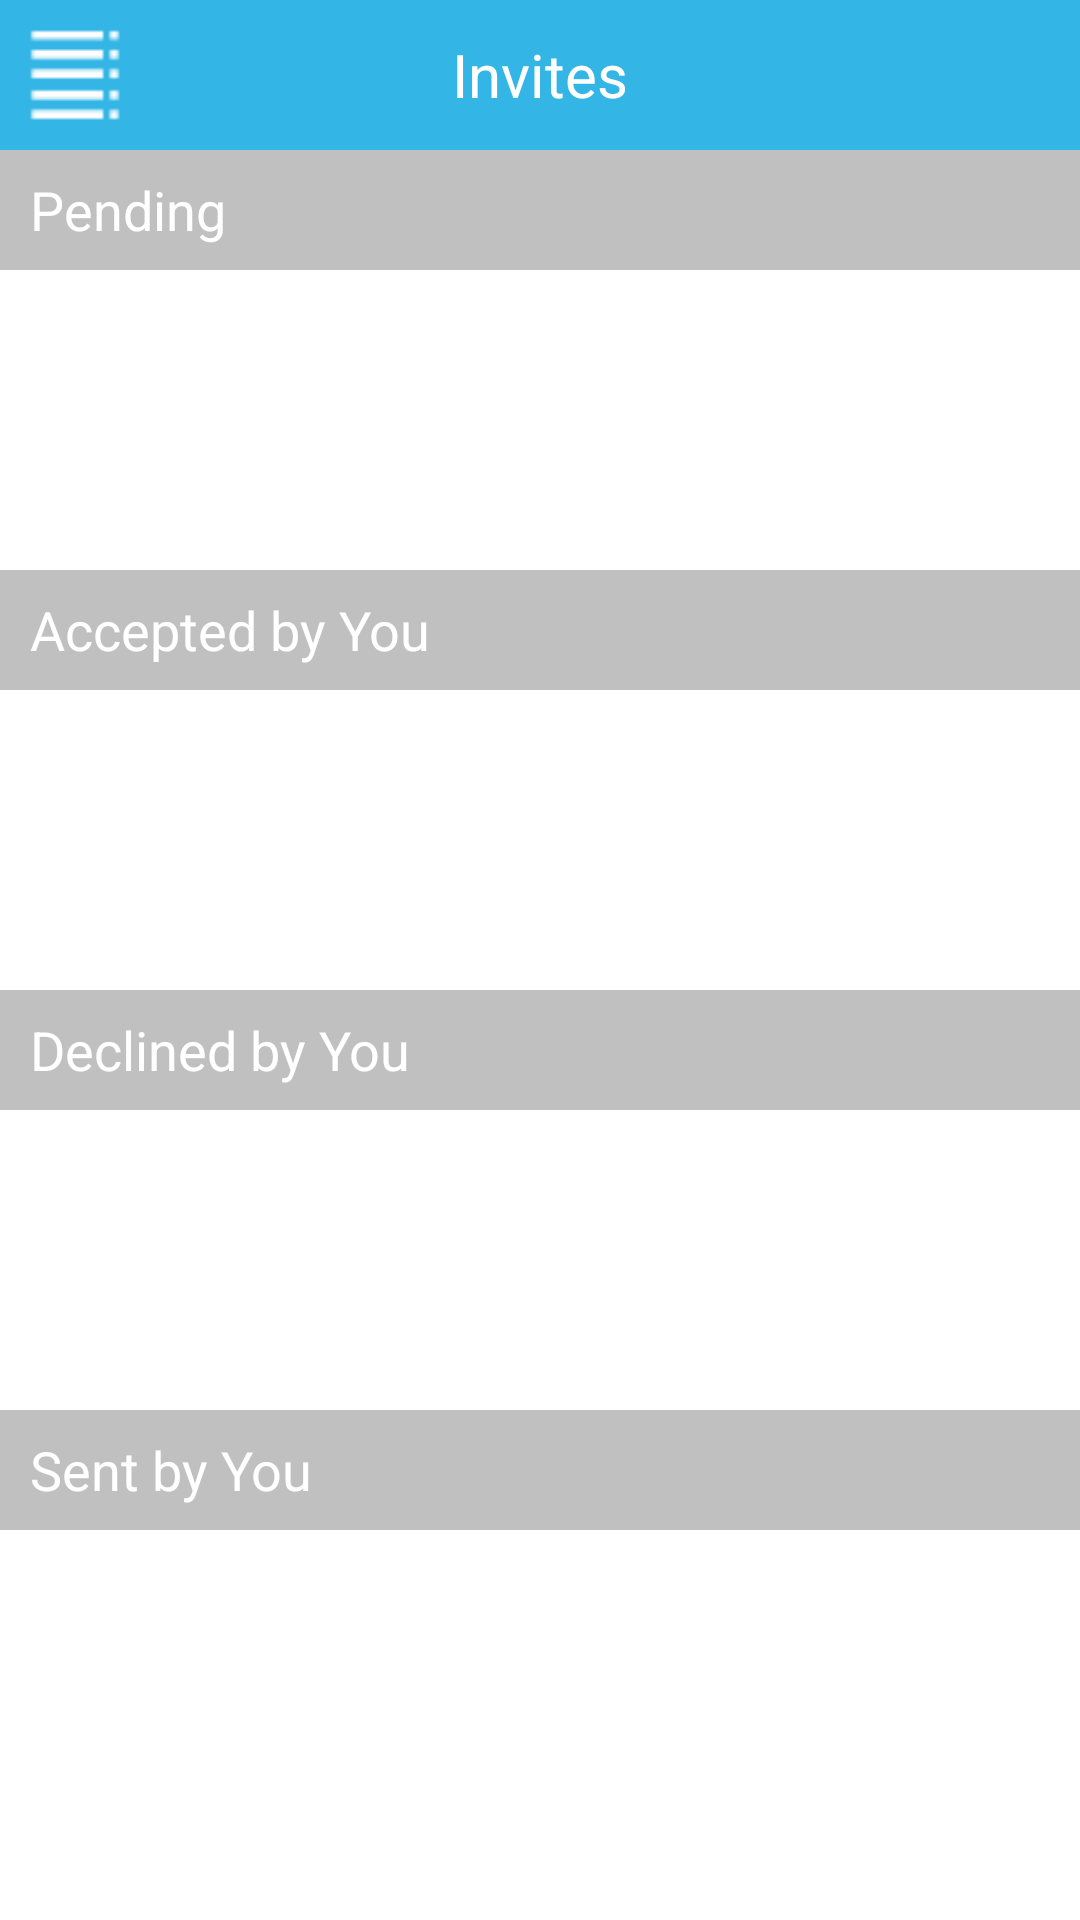

Icon bounding boxes for this 1080px×1920px phone screenshot, format region(x1, y1, x2, y2):
navigation: region(30, 30, 120, 120)
